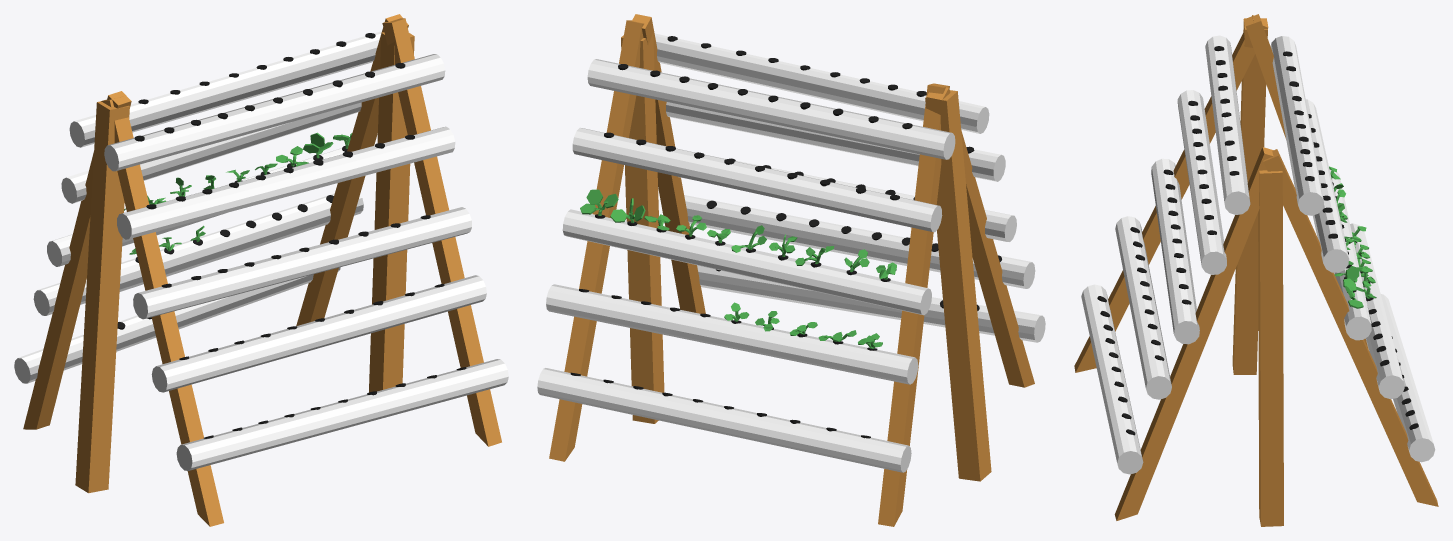
The picture shows the model from 3 angles, left to right: view 1: azimuth 30°, elevation 25°; view 2: azimuth 150°, elevation 25°; view 3: azimuth 270°, elevation 25°; orthographic projection. The views are drawn at different scales.
Parts seen in each view (by area): view 1: mesh88182859, mesh1820418537, mesh1782091253, mesh1087387627, mesh1812438000, mesh1768683318, mesh430110963, mesh187412962, mesh1457517476, mesh957939464; view 2: mesh88182859, mesh1820418537, mesh1768683318, mesh187412962, mesh1782091253, mesh957939464, mesh1812438000, mesh430110963, mesh1457517476, mesh1087387627; view 3: mesh88182859, mesh187412962, mesh1457517476, mesh1820418537, mesh1812438000, mesh1782091253, mesh1087387627, mesh430110963, mesh1768683318, mesh957939464.
Boxes of the visible parts, <box> form: mesh88182859: <box>14,14,408,429</box>; mesh1820418537: <box>75,101,129,493</box>; mesh1782091253: <box>151,275,486,392</box>; mesh1087387627: <box>133,207,471,319</box>; mesh1812438000: <box>176,359,508,470</box>; mesh1768683318: <box>104,54,445,171</box>; mesh430110963: <box>117,126,455,239</box>; mesh187412962: <box>369,32,414,392</box>; mesh1457517476: <box>382,18,501,446</box>; mesh957939464: <box>101,96,223,526</box>; mesh88182859: <box>537,20,955,526</box>; mesh1820418537: <box>925,90,991,481</box>; mesh1768683318: <box>654,33,989,133</box>; mesh187412962: <box>621,33,664,423</box>; mesh1782091253: <box>684,195,1035,288</box>; mesh957939464: <box>926,84,1034,387</box>; mesh1812438000: <box>697,265,1045,342</box>; mesh430110963: <box>666,102,1005,181</box>; mesh1457517476: <box>632,14,705,313</box>; mesh1087387627: <box>678,155,1016,241</box>; mesh88182859: <box>1243,14,1438,506</box>; mesh187412962: <box>1258,170,1283,526</box>; mesh1457517476: <box>1114,147,1273,520</box>; mesh1820418537: <box>1232,18,1267,374</box>; mesh1812438000: <box>1081,284,1143,474</box>; mesh1782091253: <box>1115,216,1171,399</box>; mesh1087387627: <box>1151,158,1199,344</box>; mesh430110963: <box>1177,90,1226,274</box>; mesh1768683318: <box>1205,35,1250,214</box>; mesh957939464: <box>1074,15,1268,372</box>.
Bounding box in the file's own units: 1.22 × 1.26 × 1.11.
